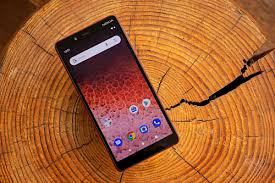nokia: (49, 12, 184, 169)
